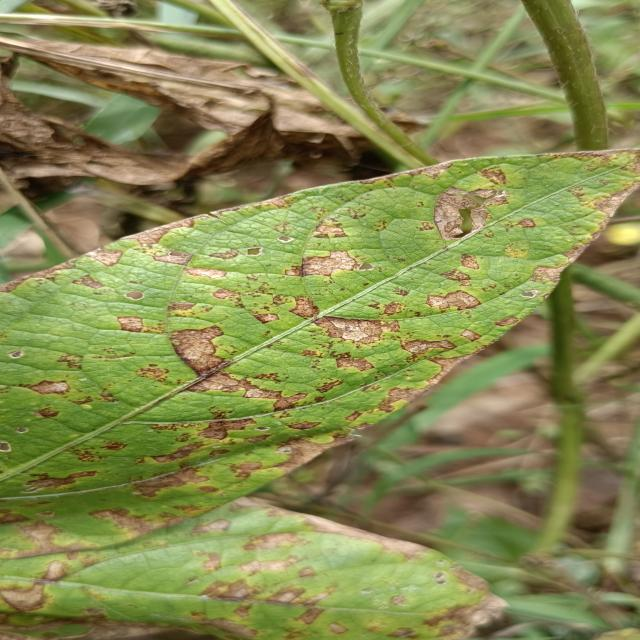Black gram_leaf spot: (0, 136, 640, 568), (0, 482, 518, 640)
